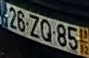2: (7, 6, 17, 30)
5: (66, 26, 78, 50)
6: (16, 10, 25, 32)
8: (55, 23, 67, 47)
Q: (39, 18, 52, 43)
Z: (27, 13, 39, 39)
